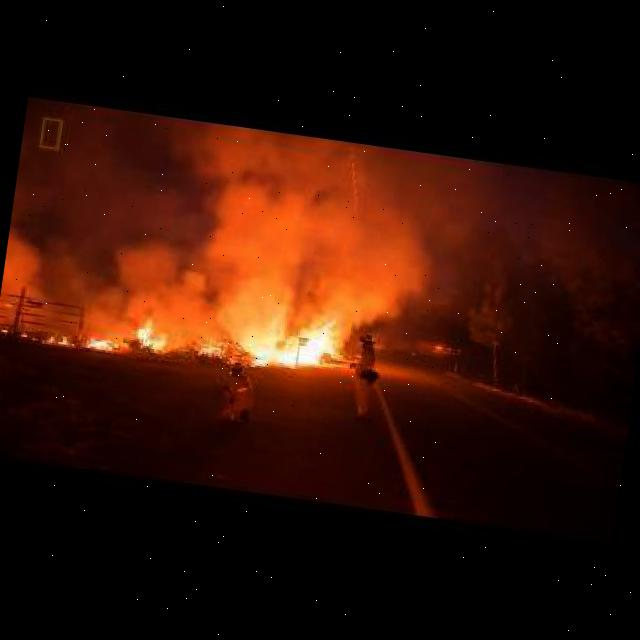fire: (112, 149, 434, 353), (249, 309, 340, 376), (138, 317, 176, 353), (20, 330, 70, 346), (84, 336, 115, 354)
